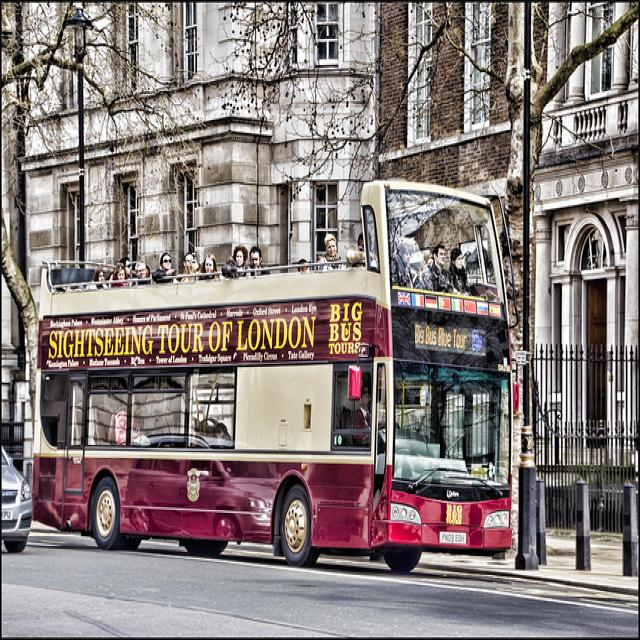Vehicle: (34, 183, 517, 574), (1, 445, 33, 554)
